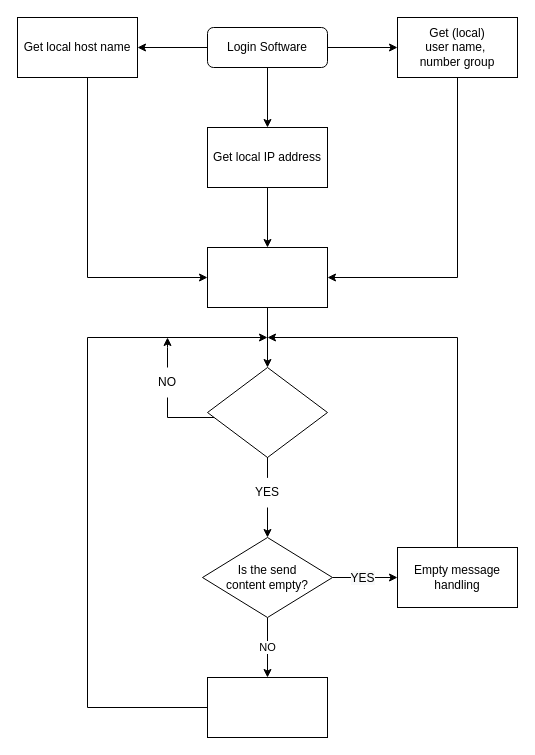
Some shapes in this 535 by 755 pixel diagram are drawn without their labels. The shapes that lost their labels are listed below. From the top down, each one's centre as x and y in pixels, then its label:
[267,277]: Specify the port to broadcast the above information
[267,412]: Need to send chat content?
[267,707]: Send User info and chat content
